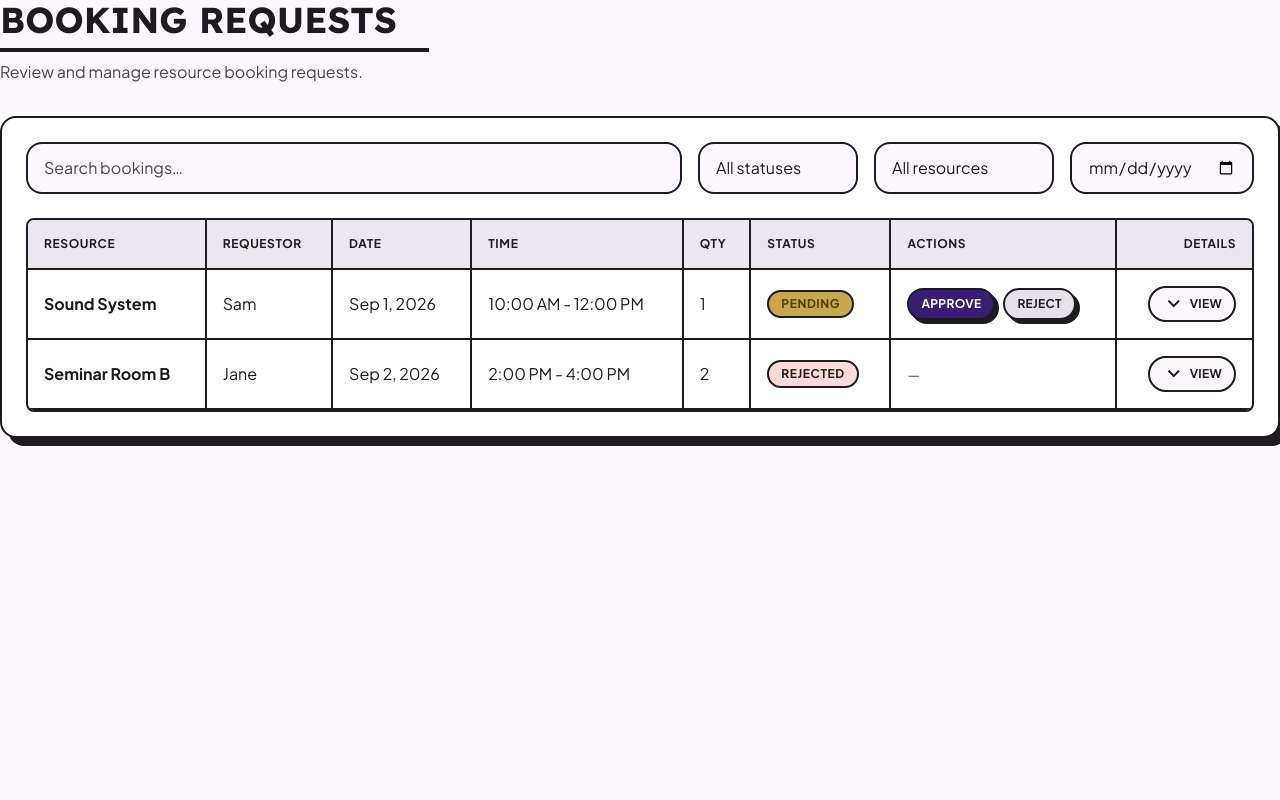
Scenario: AdminBookingsPage › requires a rejection reason
Click the button "Reject" at (1040, 304), box [1003,288,1076,320]
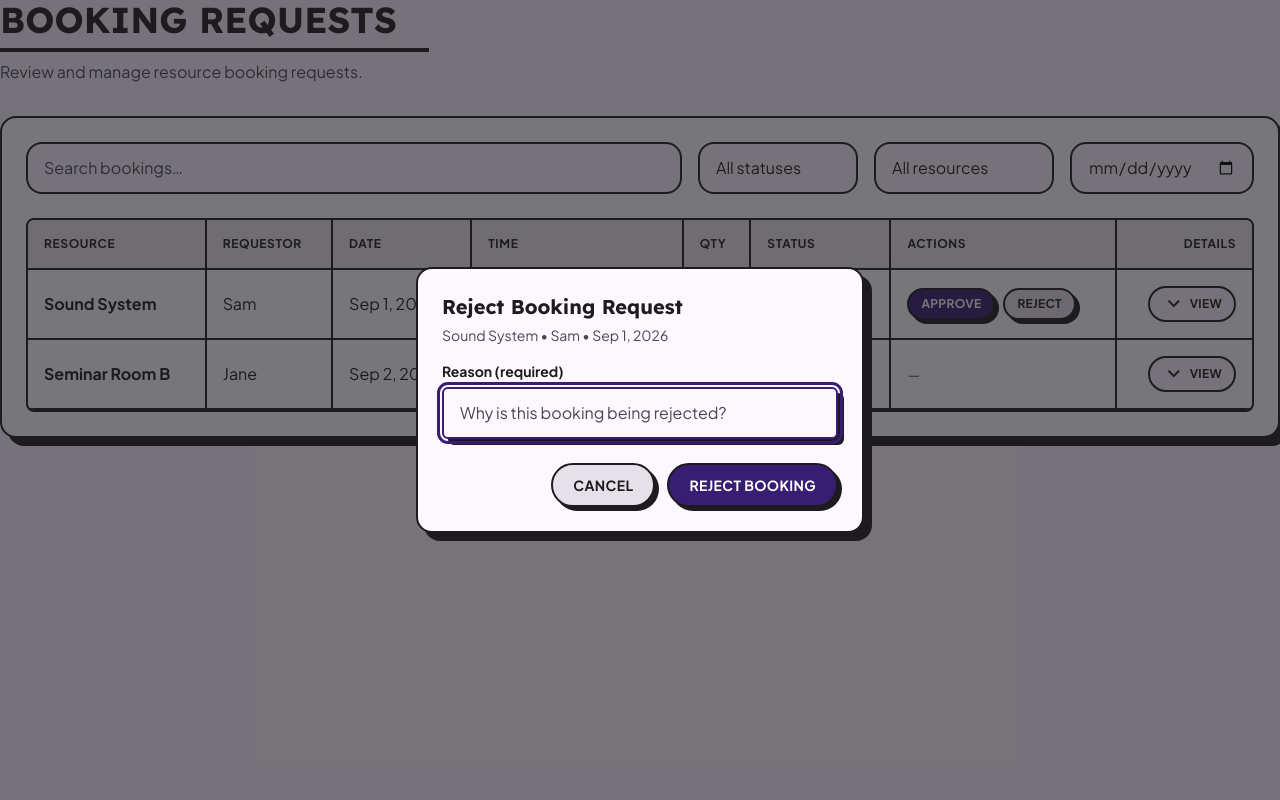
Now the dialog is shown
Click the button "Reject Booking" at (753, 485), box [667,463,838,507]
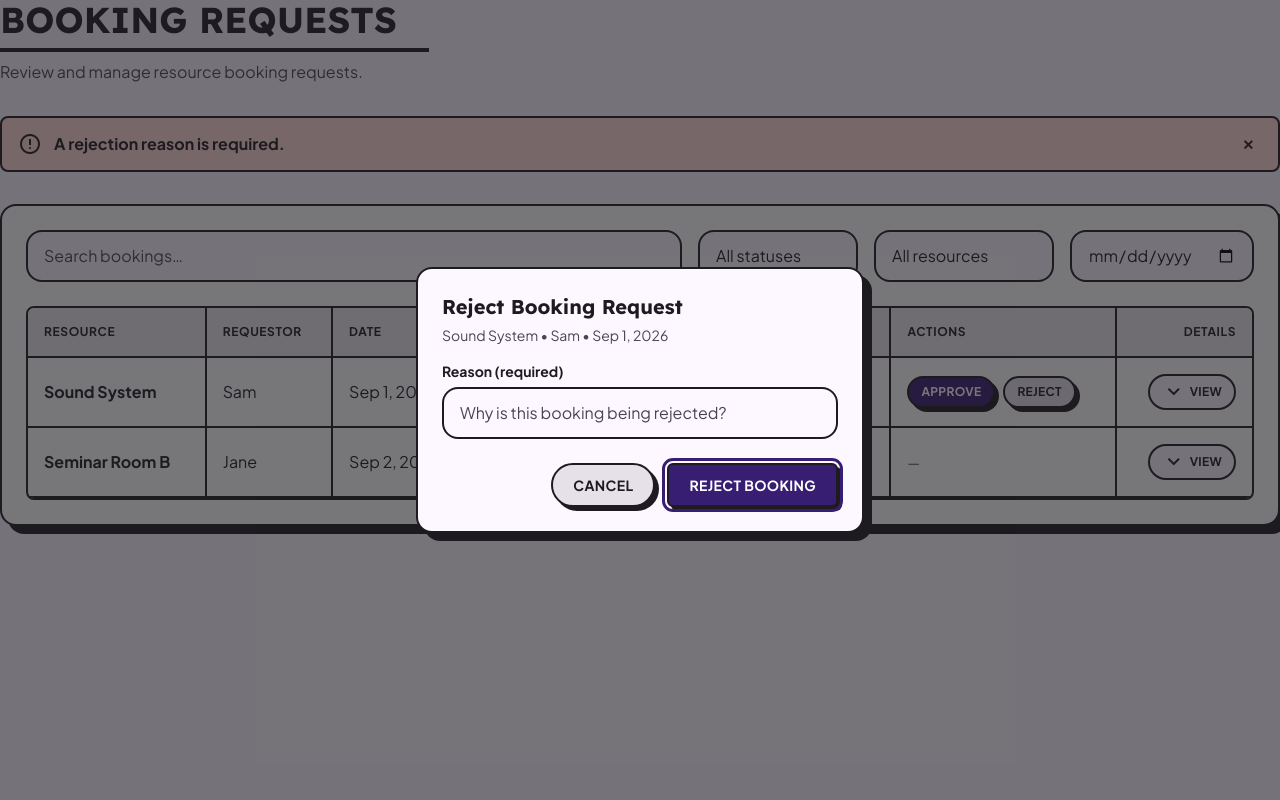
Now the text "A rejection reason is required." is shown, box [54,132,285,156]
